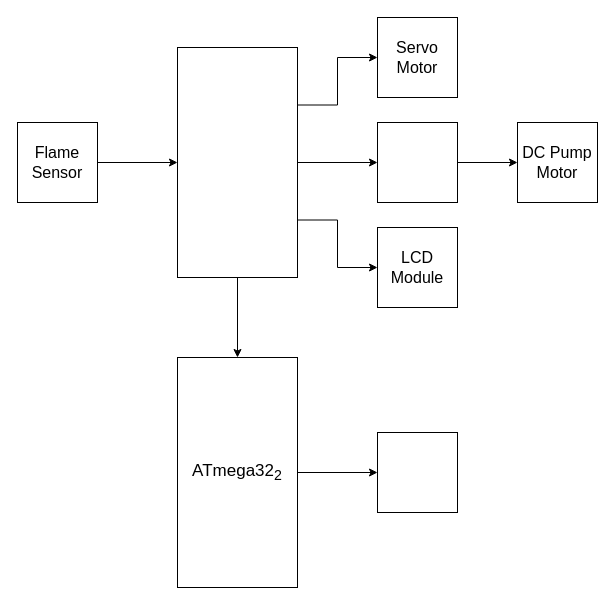
The diagram is 615 pixels wide and 605 high, and some of its shapes have lost their labels. The shapes that lost their labels are listed below. From the top down, each one's centre as x and y in pixels, then its label:
the point at 237,162: ATmega32 1
the point at 417,162: Motor Driver
the point at 417,472: GSM Module
